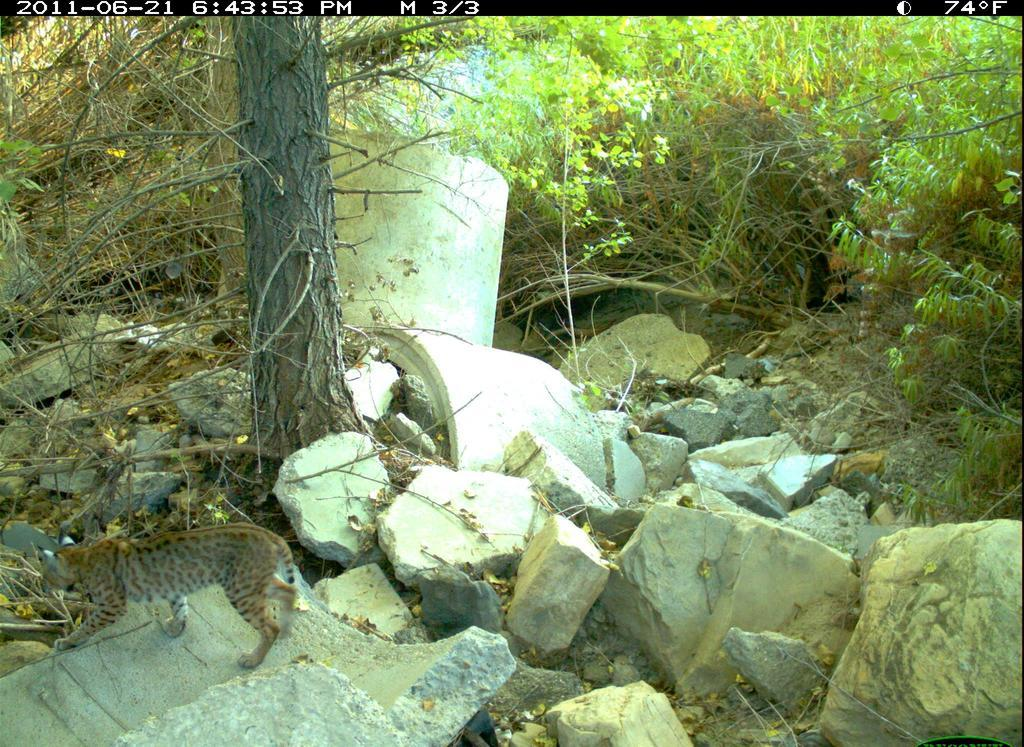bobcat: (47, 513, 313, 683)
